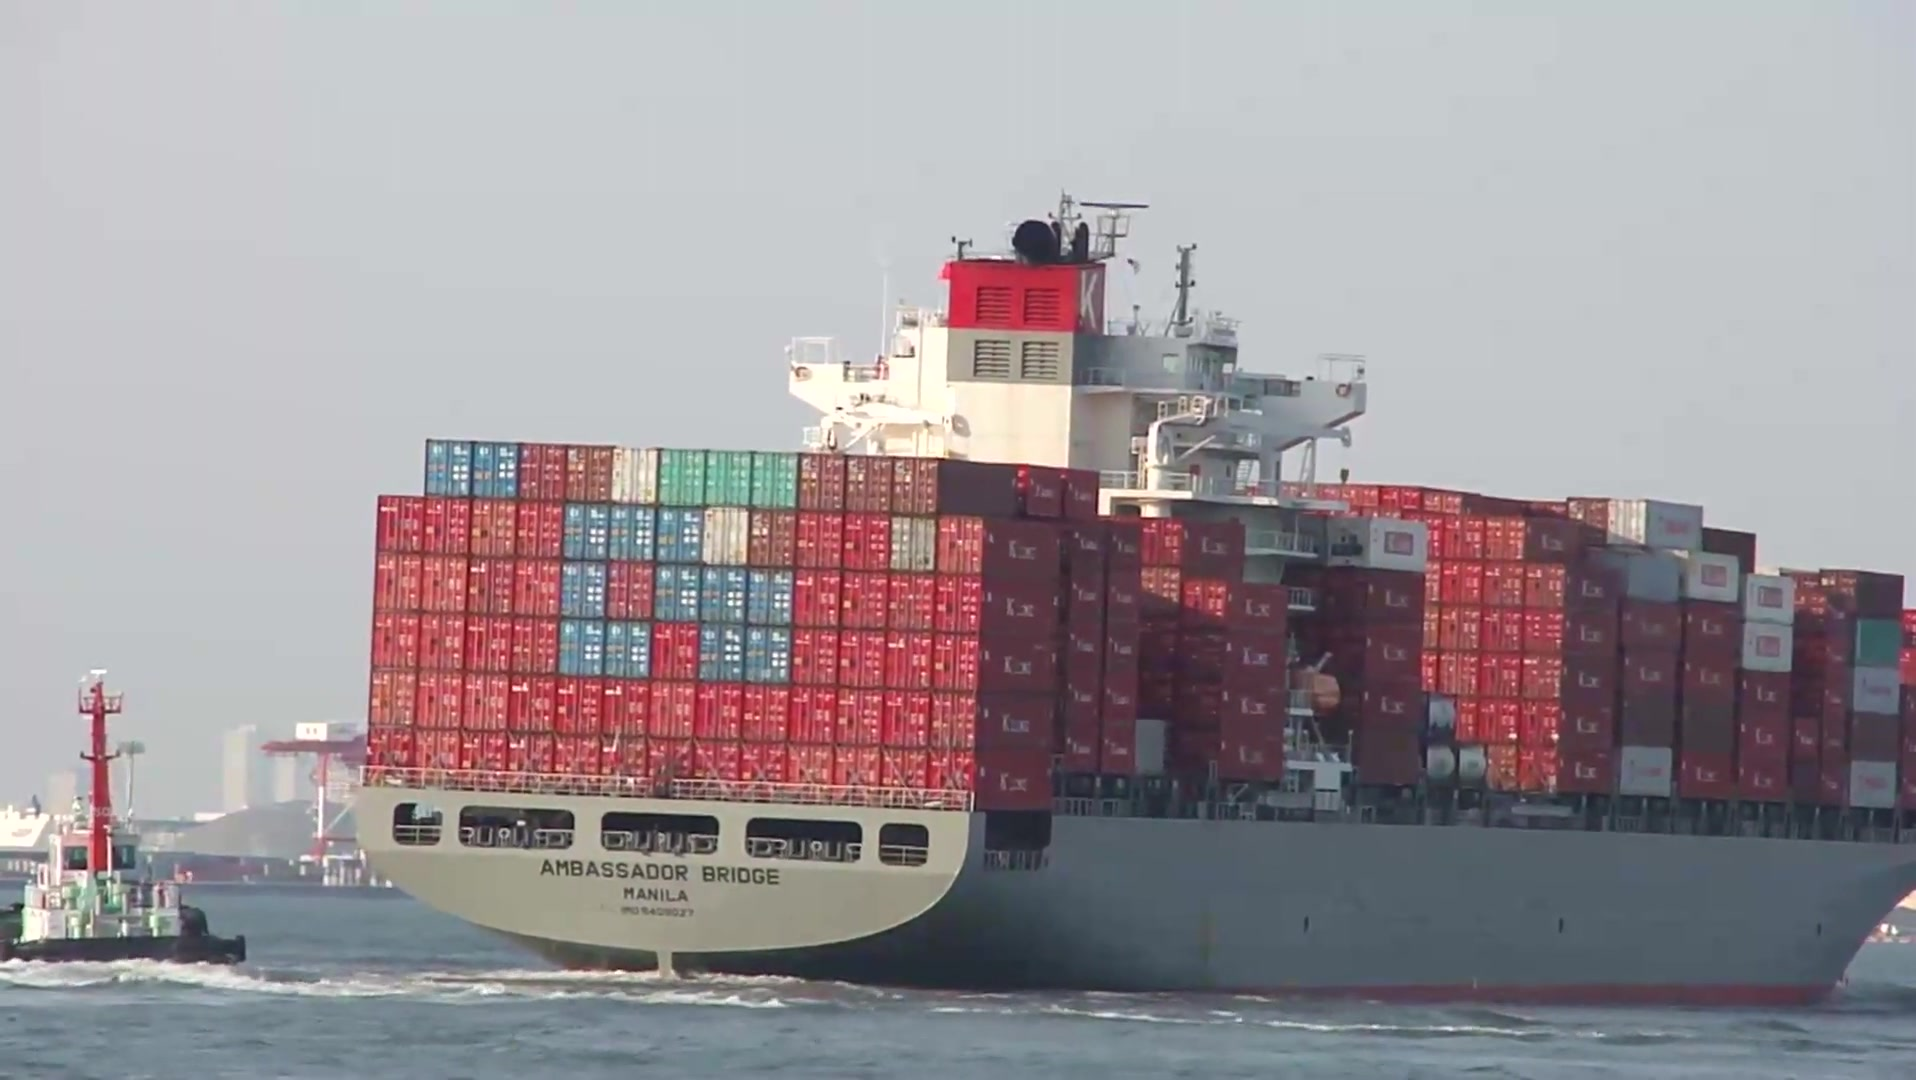boat: (347, 193, 1916, 1005), (1, 671, 254, 980)
